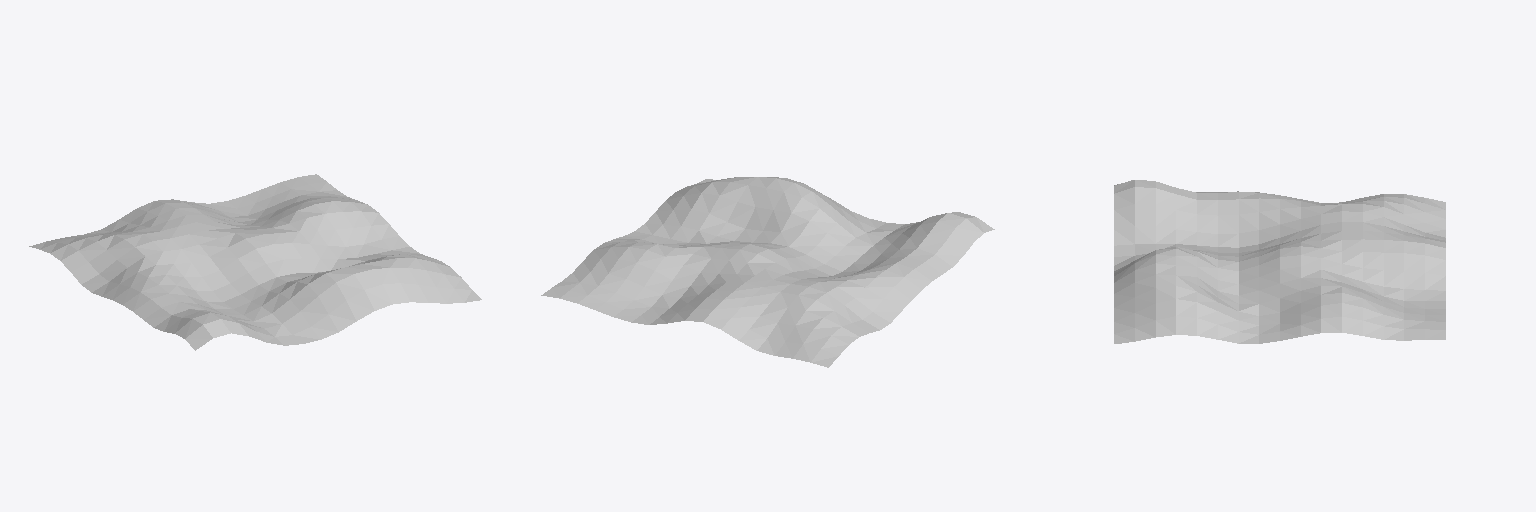
File: plane_16x16_smooth.obj
3 renders of one model, left to right at view 1: azimuth 30°, elevation 25°; view 2: azimuth 150°, elevation 25°; view 3: azimuth 270°, elevation 25°, orthographic.
Parts seen in each view (by area): view 1: Plane; view 2: Plane; view 3: Plane.
Boxes of the visible parts, x1,y1,x2,y2 form: Plane: [29, 174, 481, 350]; Plane: [541, 177, 994, 367]; Plane: [1114, 180, 1445, 343].
Size of the model in its own units: 1 by 0.1261 by 1.